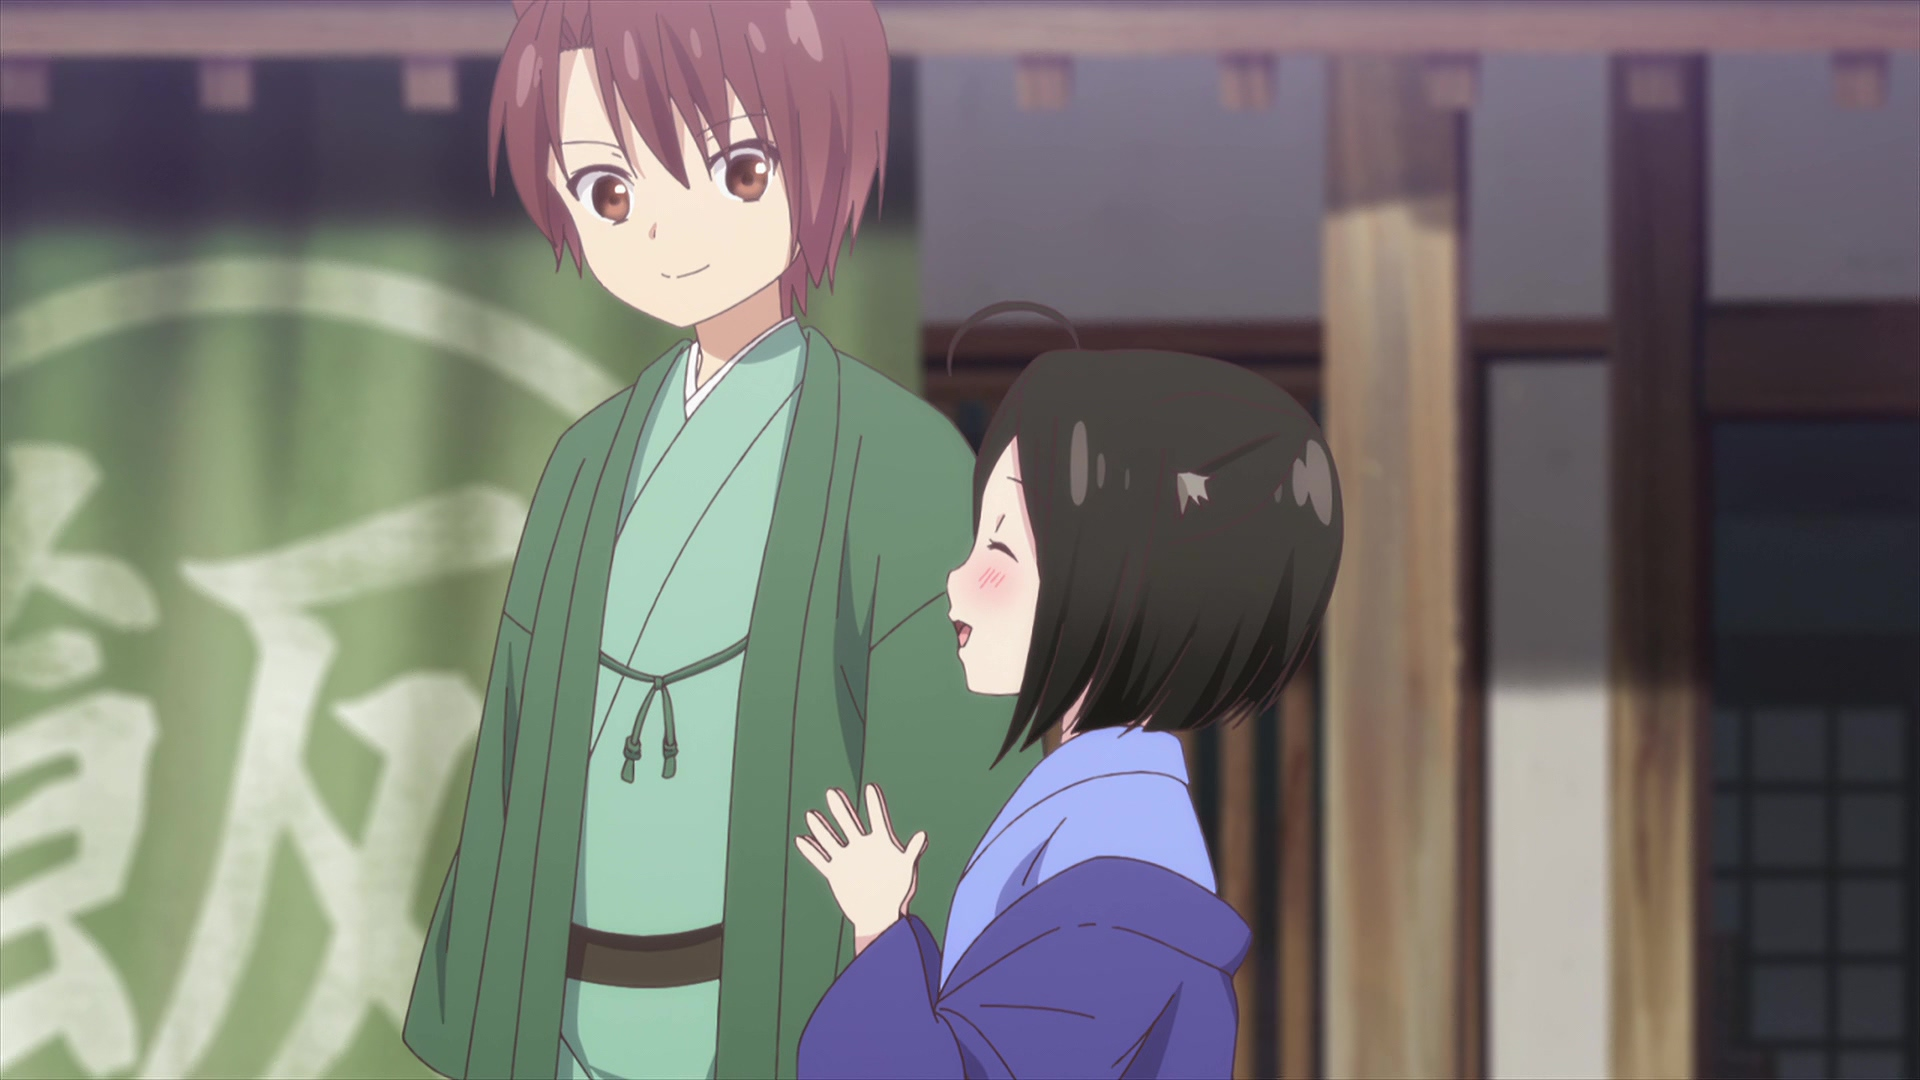其他: (793, 301, 1344, 1080)
枣: (401, 1, 1047, 1080)
